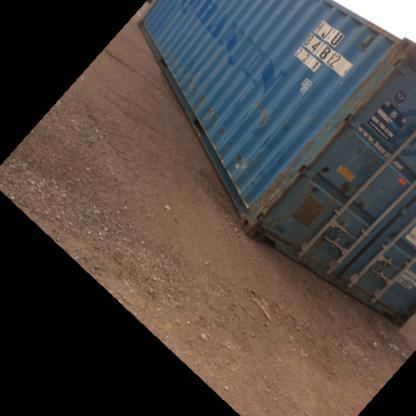Damage: (348, 36, 410, 129), (188, 78, 242, 170), (292, 115, 341, 173), (151, 29, 194, 85), (249, 166, 288, 223), (246, 87, 270, 135)
